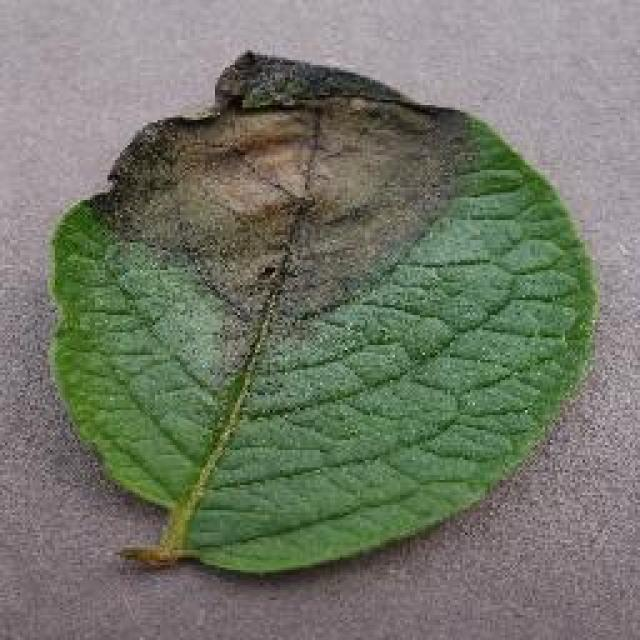Late_blight: (79, 31, 512, 334)
